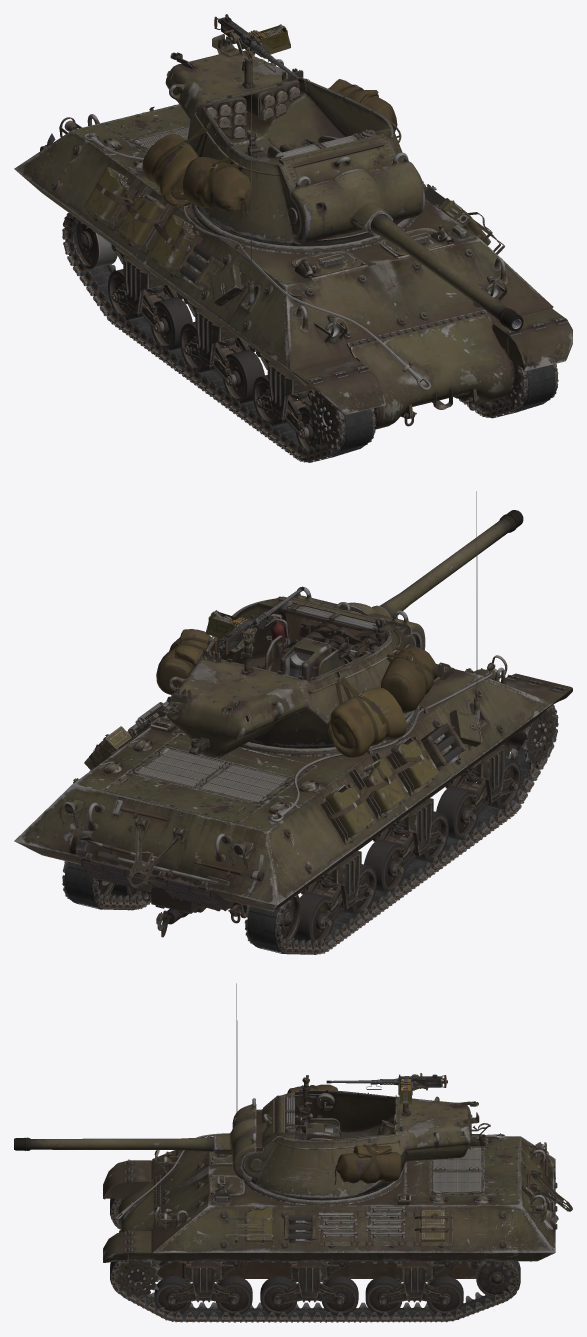
File: m36_gmc.glb
3 views of the same model, one above another, from view 1: azimuth 30°, elevation 25°; view 2: azimuth 150°, elevation 25°; view 3: azimuth 270°, elevation 25° (orthographic). The views are drawn at different scales.
Parts seen in each view (by area): view 1: Object_16, Object_11, Object_13, Object_12, Object_15, Object_4, Object_18, Object_20, Object_14, Object_19, Object_6, wheelL4 (+8 smaller); view 2: Object_16, Object_11, Object_12, Object_18, Object_15, Object_4, Object_19, Object_13, Object_14, Object_10, Object_6, wheelLS (+8 smaller); view 3: Object_16, Object_11, Object_19, Object_6, Object_15, Object_13, Object_12, Object_18, Object_20, wheelRS, wheelRI, wheelR2 (+8 smaller).
Boxes of the visible parts, x1=… form: Object_16: x1=14, y1=104, x2=566, y2=429; Object_11: x1=165, y1=34, x2=403, y2=246; Object_13: x1=290, y1=152, x2=523, y2=331; Object_12: x1=142, y1=59, x2=397, y2=240; Object_15: x1=111, y1=141, x2=567, y2=421; Object_4: x1=62, y1=213, x2=375, y2=462; Object_18: x1=40, y1=133, x2=490, y2=426; Object_20: x1=308, y1=276, x2=572, y2=414; Object_14: x1=113, y1=283, x2=314, y2=439; Object_19: x1=59, y1=117, x2=448, y2=342; Object_6: x1=456, y1=364, x2=558, y2=418; wheelL4: x1=222, y1=350, x2=264, y2=403; Object_16: x1=14, y1=664, x2=565, y2=937; Object_11: x1=163, y1=596, x2=416, y2=758; Object_12: x1=156, y1=600, x2=438, y2=757; Object_18: x1=70, y1=710, x2=481, y2=923; Object_15: x1=69, y1=662, x2=567, y2=918; Object_4: x1=244, y1=705, x2=558, y2=954; Object_19: x1=59, y1=655, x2=507, y2=867; Object_13: x1=292, y1=510, x2=523, y2=649; Object_14: x1=306, y1=772, x2=516, y2=928; Object_10: x1=261, y1=617, x2=401, y2=676; Object_6: x1=62, y1=861, x2=151, y2=910; wheelLS: x1=502, y1=704, x2=557, y2=768; Object_16: x1=118, y1=1133, x2=557, y2=1302; Object_11: x1=242, y1=1075, x2=490, y2=1200; Object_19: x1=154, y1=1142, x2=546, y2=1304; Object_6: x1=110, y1=1252, x2=520, y2=1322; Object_15: x1=115, y1=1136, x2=541, y2=1302; Object_13: x1=14, y1=1098, x2=256, y2=1182; Object_12: x1=250, y1=1084, x2=464, y2=1195; Object_18: x1=245, y1=1142, x2=572, y2=1243; Object_20: x1=103, y1=1160, x2=180, y2=1262; wheelRS: x1=111, y1=1255, x2=162, y2=1300; wheelRI: x1=476, y1=1261, x2=515, y2=1297; wheelR2: x1=365, y1=1276, x2=402, y2=1315.
Size of the model in its own units: 3.17 by 3.95 by 7.65.
Materials: 10 (10 with a texture image).
